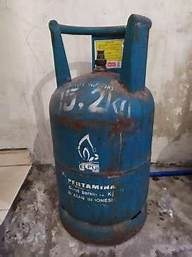blue_gas: (49, 14, 156, 246)
